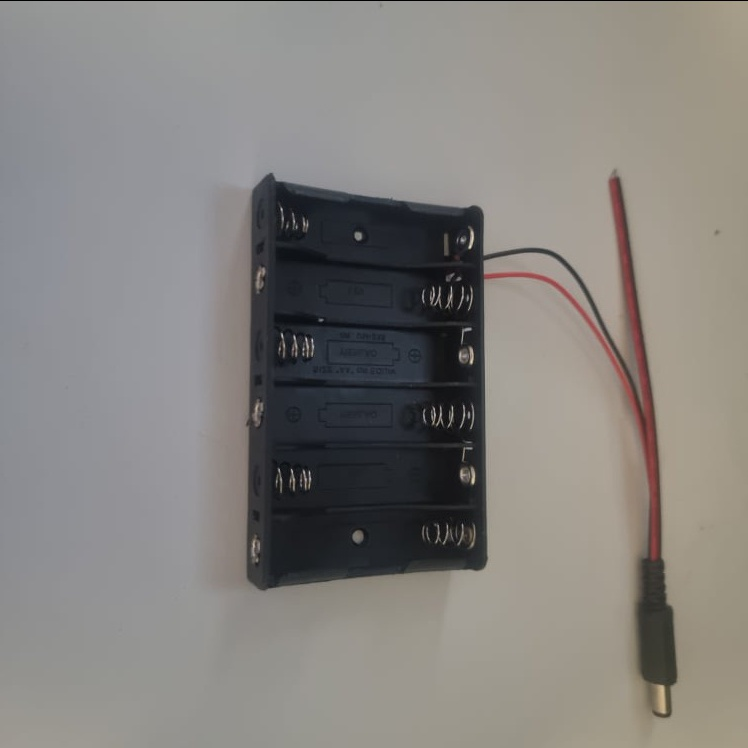BATTERY BOX: (243, 170, 489, 587)
